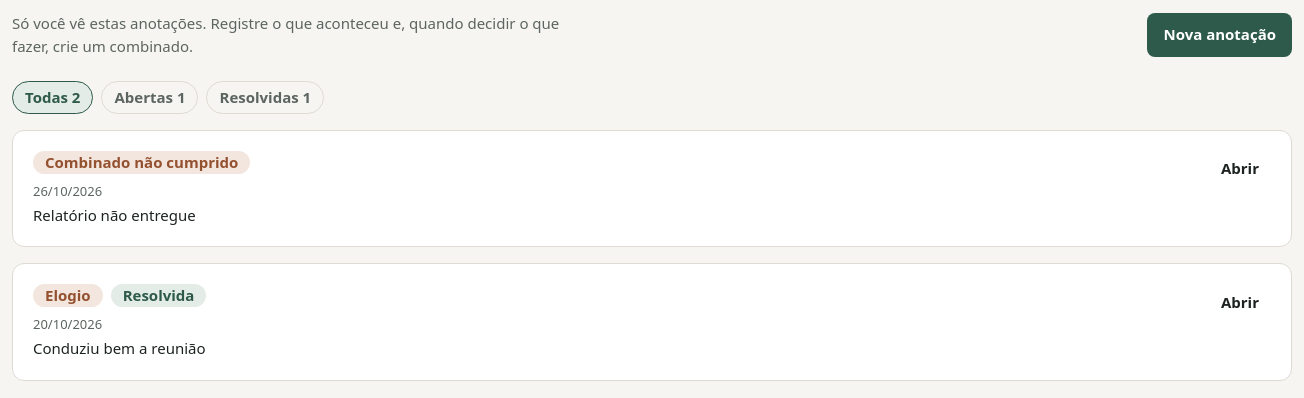
Test: NotesPanel › deve listar com situação e filtrar por situação
This screenshot has width=1304, height=398.
Expected: the text "Relatório não entregue" is shown, [33, 205, 196, 225]
Expected: the text "Conduziu bem a reunião" is shown, [33, 337, 206, 360]
Click the button "Resolvidas 1". click: (265, 97)
box: [206, 81, 324, 114]
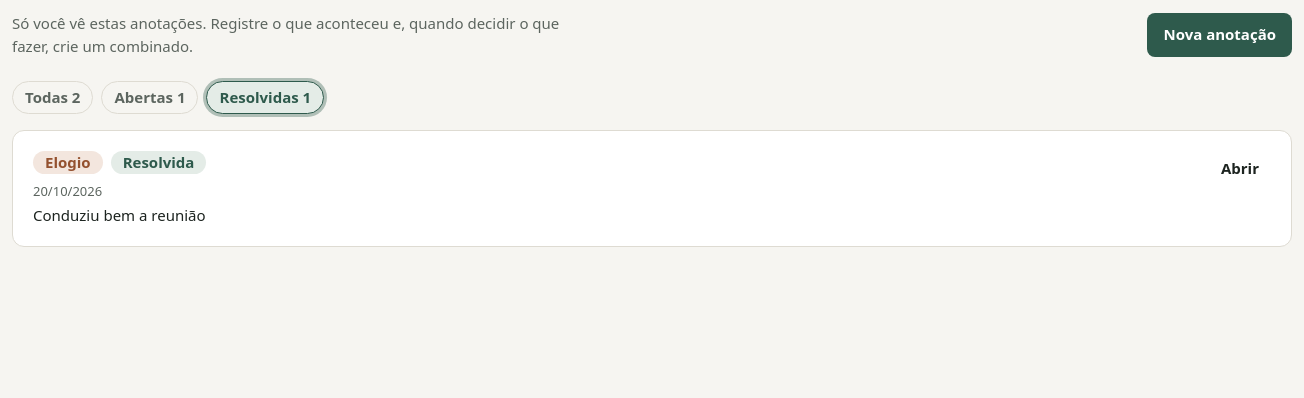
Expected: the text "Conduziu bem a reunião" is shown, [33, 204, 206, 226]
Expected: the text "Relatório não entregue" is gone
